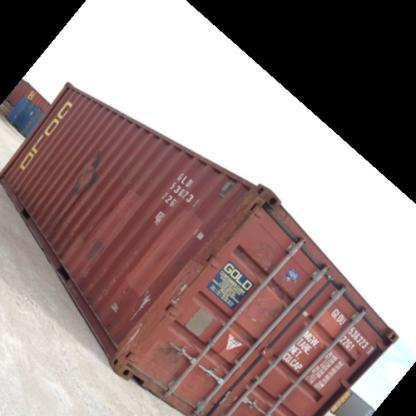Damage: (110, 290, 152, 346), (67, 150, 108, 195), (149, 338, 198, 373), (250, 239, 284, 284), (76, 229, 113, 266), (248, 298, 292, 328), (211, 178, 238, 206), (136, 176, 152, 216), (7, 173, 28, 195)
